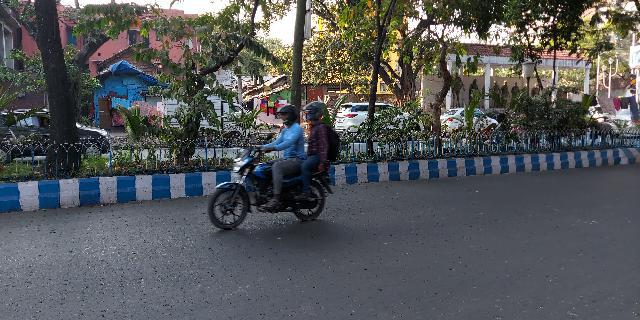Motorbike: (208, 94, 343, 236)
